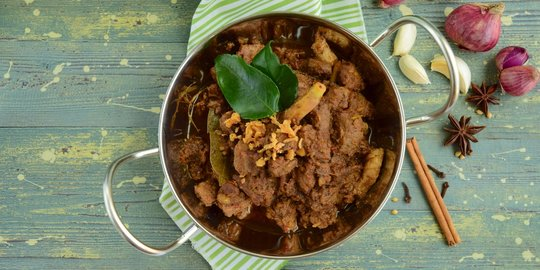rendang: (158, 5, 420, 265)
